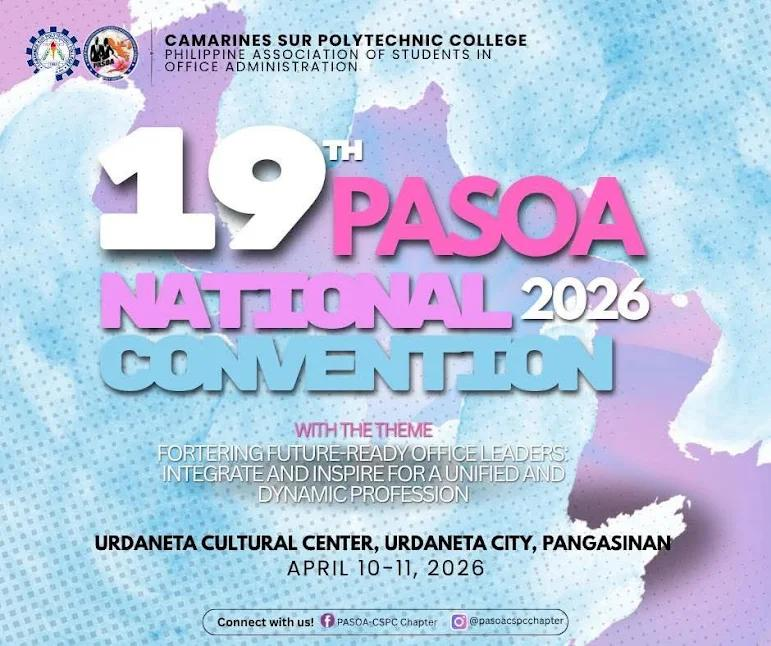embellishment: (448, 611, 469, 632), (320, 612, 336, 629)
logo: (85, 26, 141, 83), (24, 25, 82, 80)
text: (93, 116, 660, 404), (145, 415, 585, 511), (89, 522, 681, 582), (159, 29, 540, 79), (213, 615, 317, 630), (337, 616, 440, 629), (471, 616, 564, 628)
underlay: (204, 609, 571, 635)
